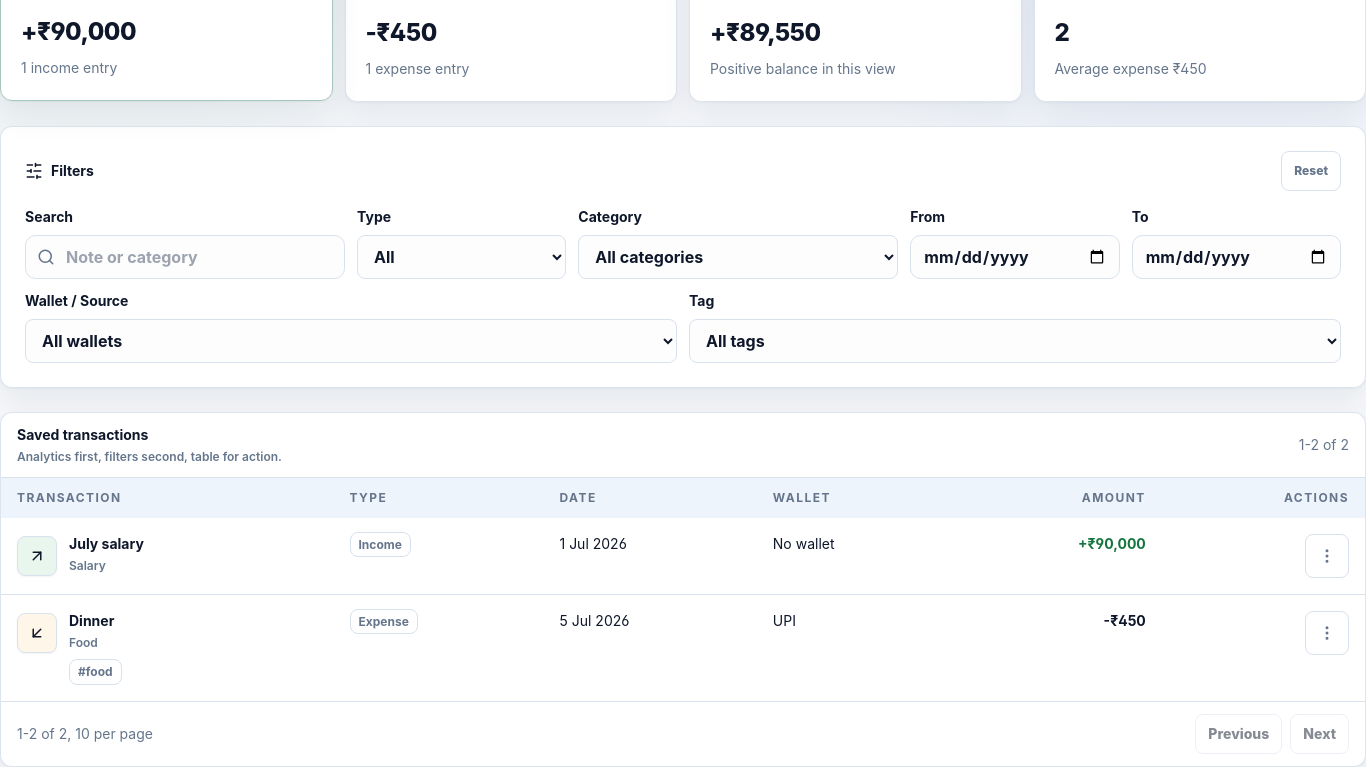
Test: TransactionList › deletes a transaction after confirmation
This screenshot has width=1366, height=767.
(page scrolled)
Expected: the text "Dinner" is shown, [69,611,122,631]
Click the button named "Open actions for Dinner transaction": (1327, 633) [1305,611,1349,655]
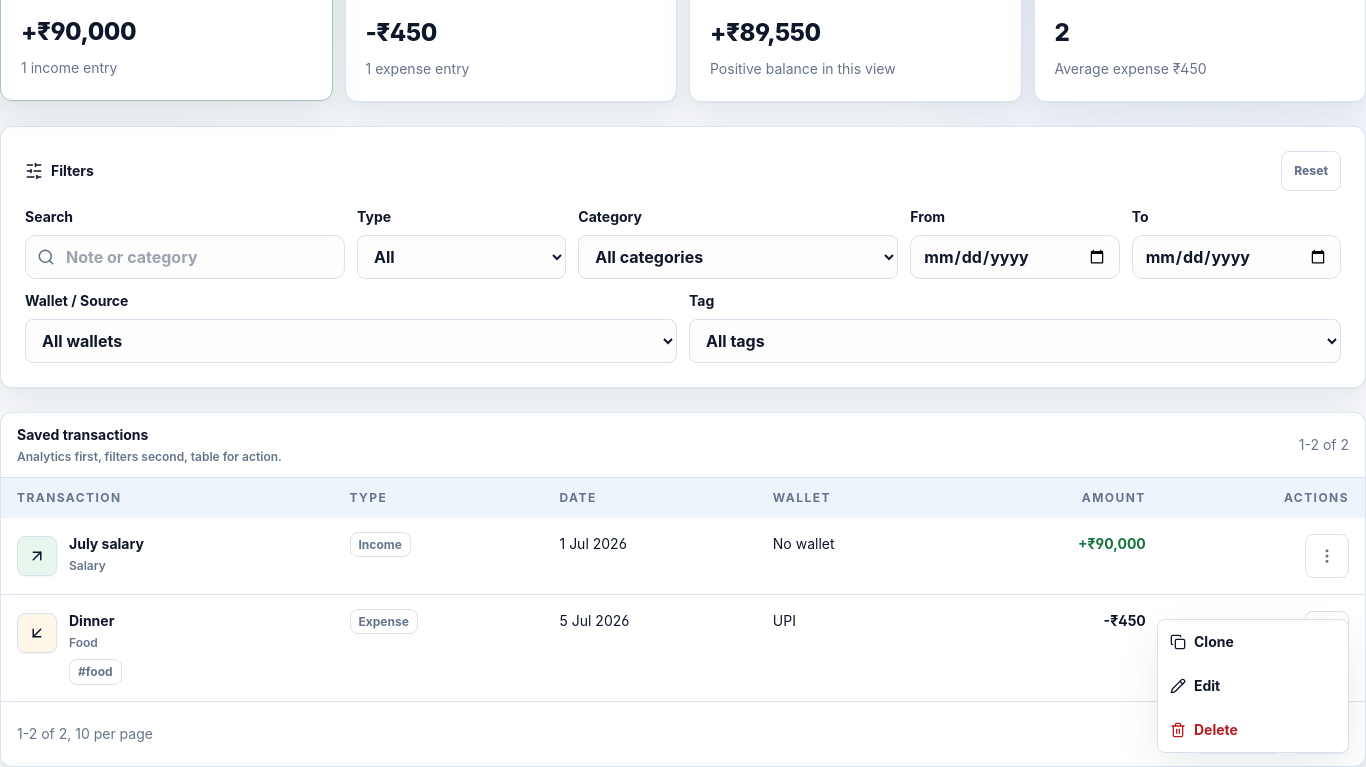
Click the button with aria-label "Delete Dinner transaction": (1253, 730) [1158,708,1348,752]
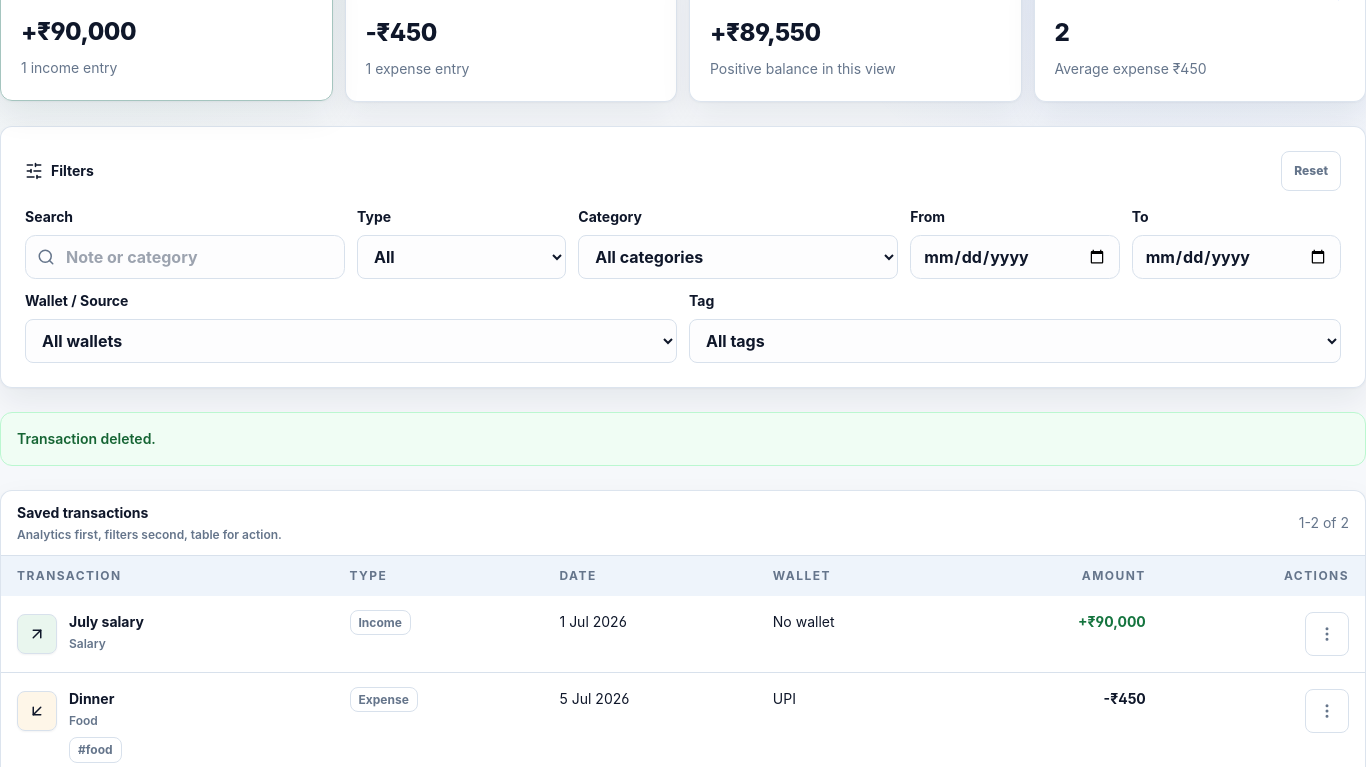
Expected: the message reads "Transaction deleted.", [17,430,156,447]
